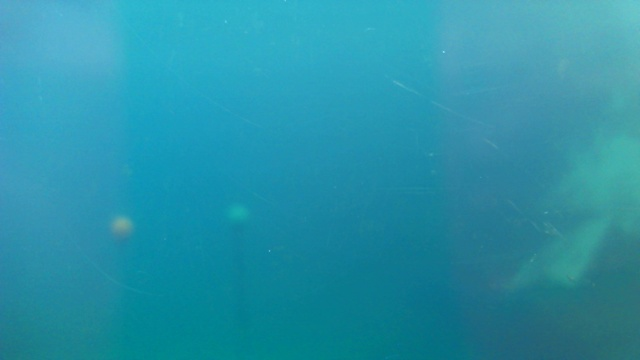buoy_green: (224, 201, 249, 233)
buoy_red: (111, 218, 130, 242)
